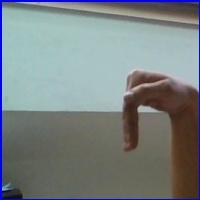del: (115, 63, 191, 157)
